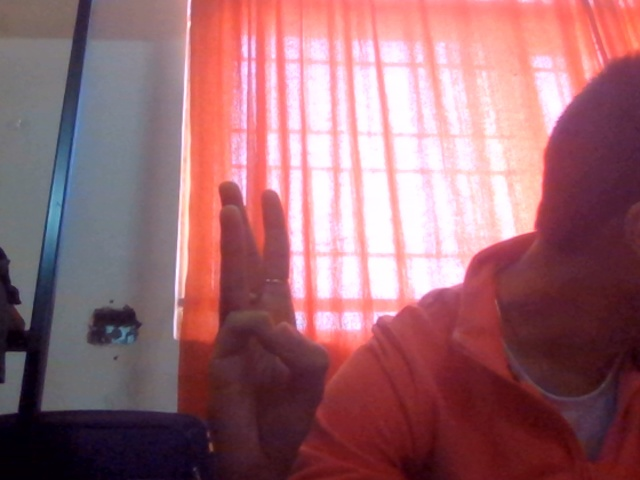W: (159, 157, 375, 480)
